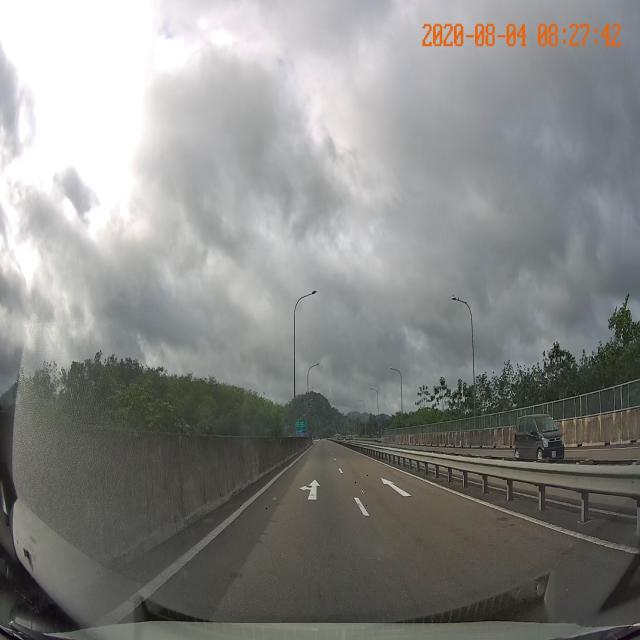forward_lft: (241, 468, 370, 516)
